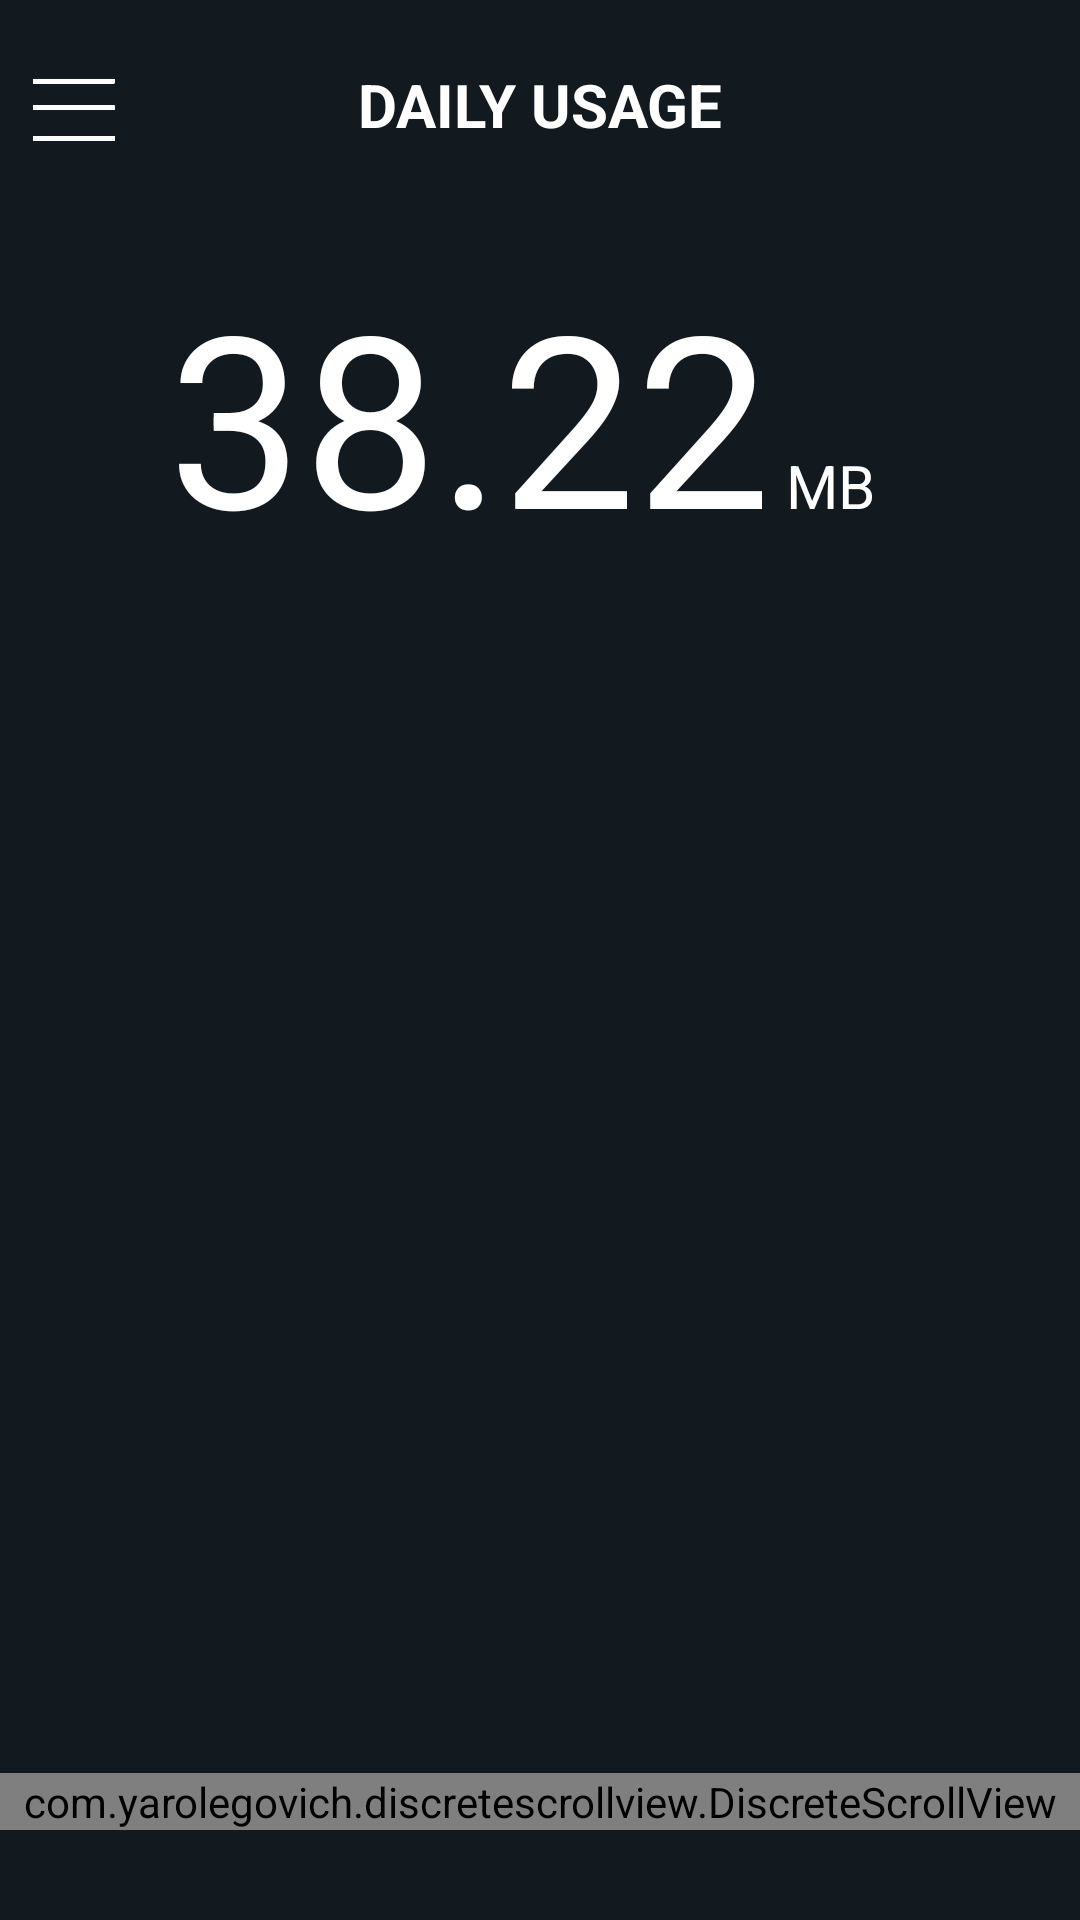

Where icons sit on this 1080px×1920px app screen, as detection(x1, y1, x2, y2):
three lines: detection(33, 79, 115, 141)
